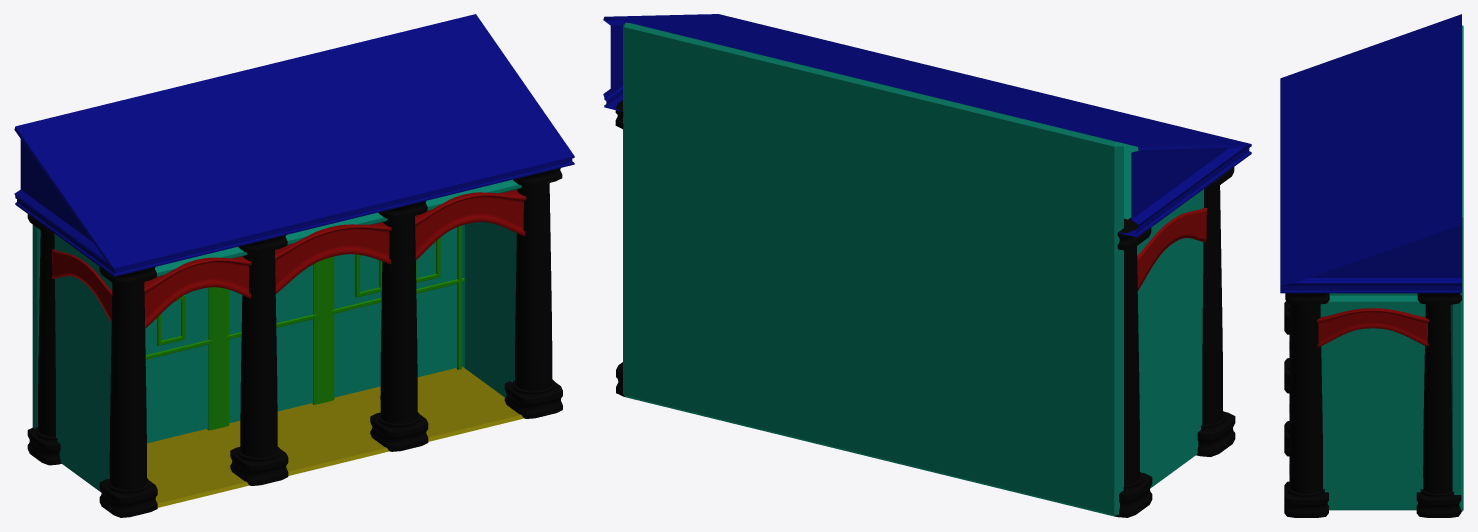
Rendered from Repeatable Roman Building.fbx.
3 views of the same model, side by side, from view 1: azimuth 30°, elevation 25°; view 2: azimuth 150°, elevation 25°; view 3: azimuth 270°, elevation 25° (orthographic). The views are drawn at different scales.
Parts seen in each view (by area): view 1: pCube126, pCube123, Colomns1, pPlane2, pCube117, pCube124, Colomns2, polySurface4, pCube127; view 2: pCube127, pCube126, pCube123, Colomns1, Colomns2, polySurface4; view 3: pCube126, pCube123, Colomns1, Colomns2, pCube127, polySurface4.
Part boxes in pixels (x1,y1,x2,y2): pCube126: (14,14,574,276); pCube123: (54,179,521,492); Colomns1: (99,168,562,517); pPlane2: (147,366,523,507); pCube117: (144,190,526,328); pCube124: (145,225,464,430); Colomns2: (27,214,61,465); polySurface4: (52,249,112,321); pCube127: (32,224,40,428); pCube127: (623,22,1123,516); pCube126: (603,14,1251,237); pCube123: (1121,143,1203,488); Colomns1: (1196,167,1235,456); Colomns2: (615,100,1152,517); polySurface4: (1137,208,1206,291); pCube126: (1280,14,1461,293); pCube123: (1320,293,1425,510); Colomns1: (1284,293,1329,517); Colomns2: (1416,293,1461,517); pCube127: (1450,25,1463,511); polySurface4: (1317,308,1429,347).
Bounding box in the file's own units: 36.42 × 24.62 × 13.57.
